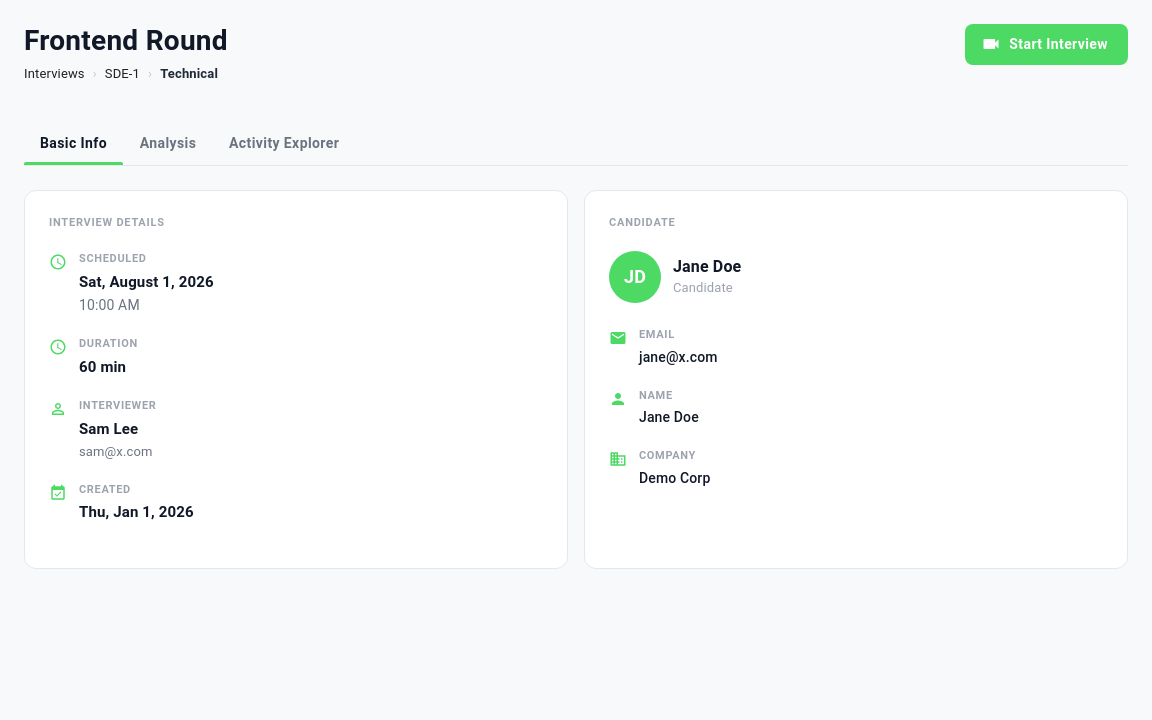
Test: InterviewDetailPage › Analysis tab explains analysis is unavailable until completion
Check: the text "Frontend Round" is shown, box [24,24,228,58]
Click the tab "Analysis": [168, 144] box [123,123,213,165]
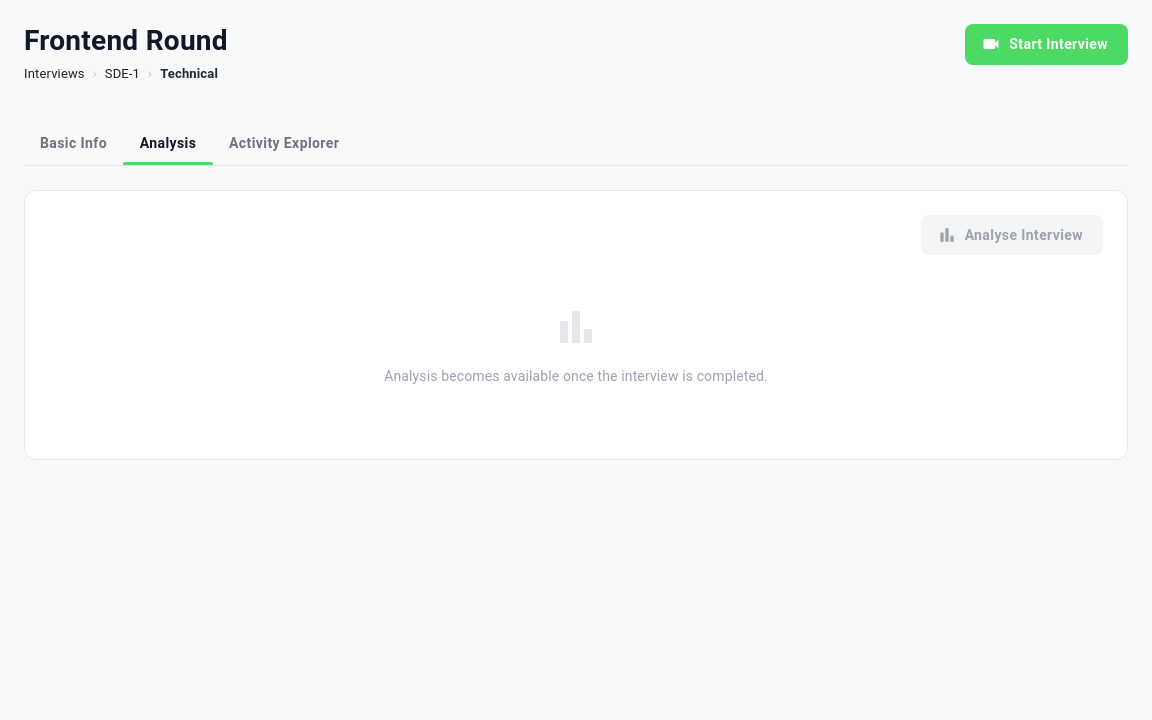
Check: the text "Analysis becomes available once the interview is completed." is shown, box [384,368,768,384]
